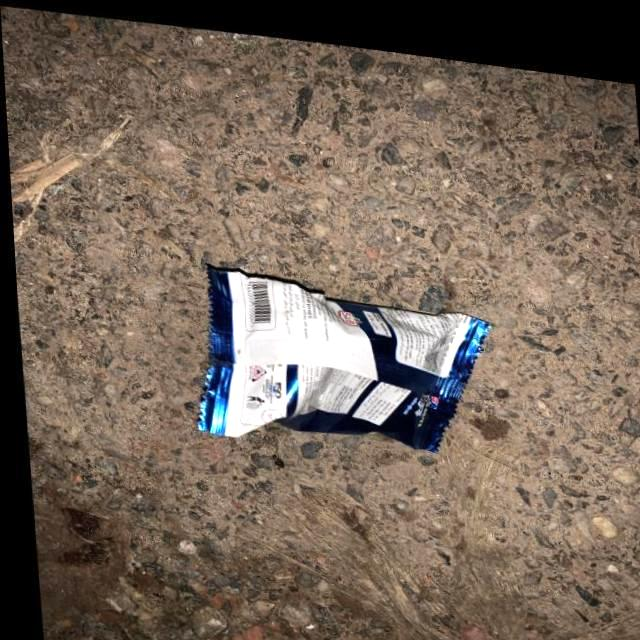packet: (193, 249, 491, 465)
